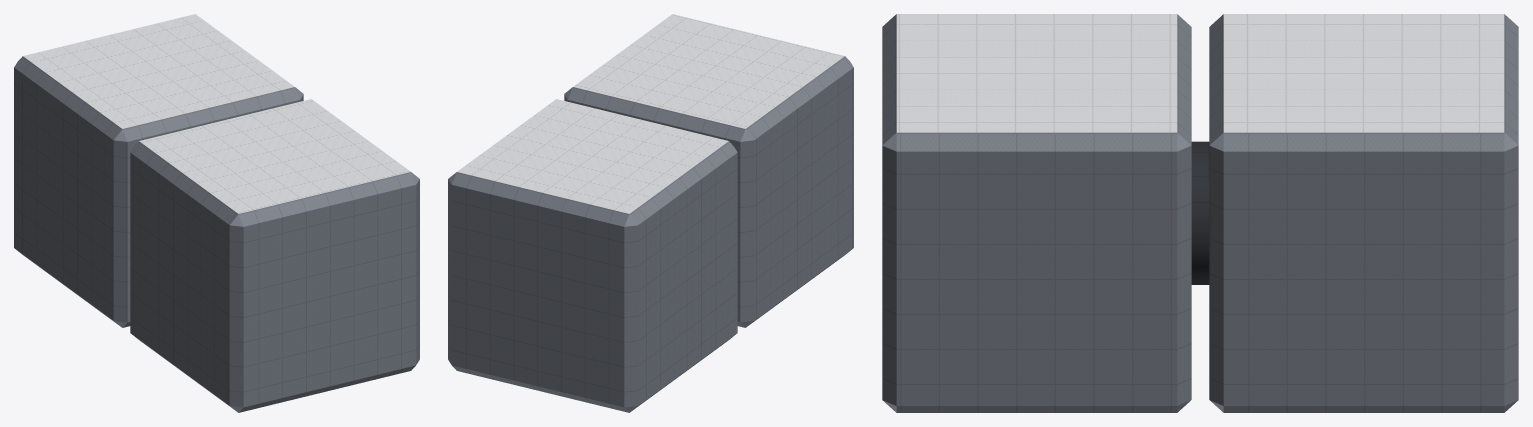
The model's file is R4C_STRUT_SHORT_LOD1.glb.
3 views of the same model, side by side, from view 1: azimuth 30°, elevation 25°; view 2: azimuth 150°, elevation 25°; view 3: azimuth 270°, elevation 25° (orthographic). The views are drawn at different scales.
Parts seen in each view (by area): view 1: R4C_STRUT_SHORT_LOD1; view 2: R4C_STRUT_SHORT_LOD1; view 3: R4C_STRUT_SHORT_LOD1.
Boxes of the visible parts, <box> form: R4C_STRUT_SHORT_LOD1: <box>14,14,419,412</box>; R4C_STRUT_SHORT_LOD1: <box>448,14,853,412</box>; R4C_STRUT_SHORT_LOD1: <box>882,14,1518,412</box>.
Size of the model in its own units: 0.52 by 0.52 by 1.07.
Materials: 3 (3 with a texture image).
